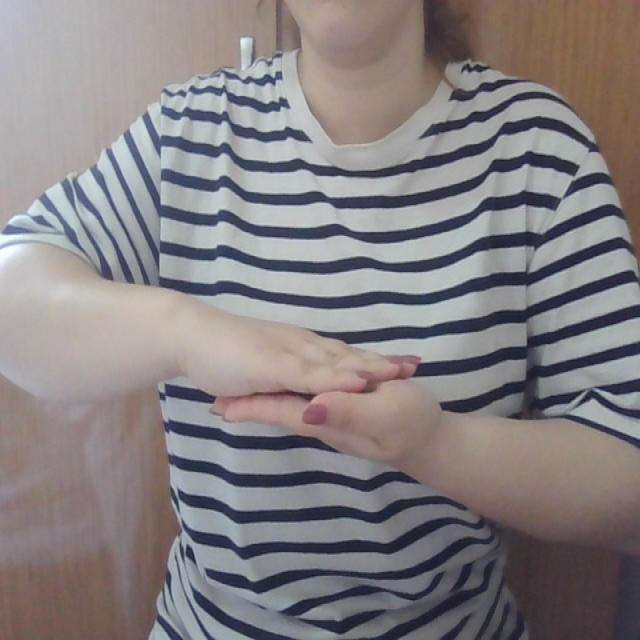Arkadas: (126, 310, 542, 460)
